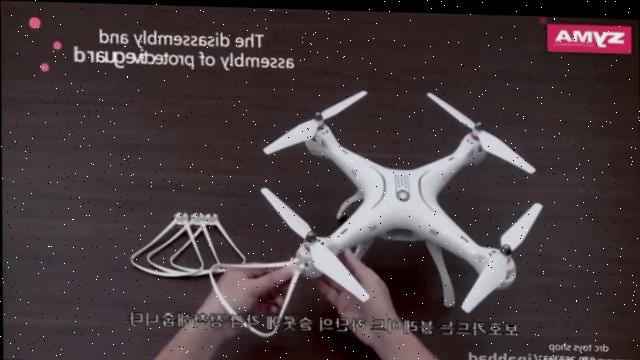drone: (255, 83, 547, 315)
